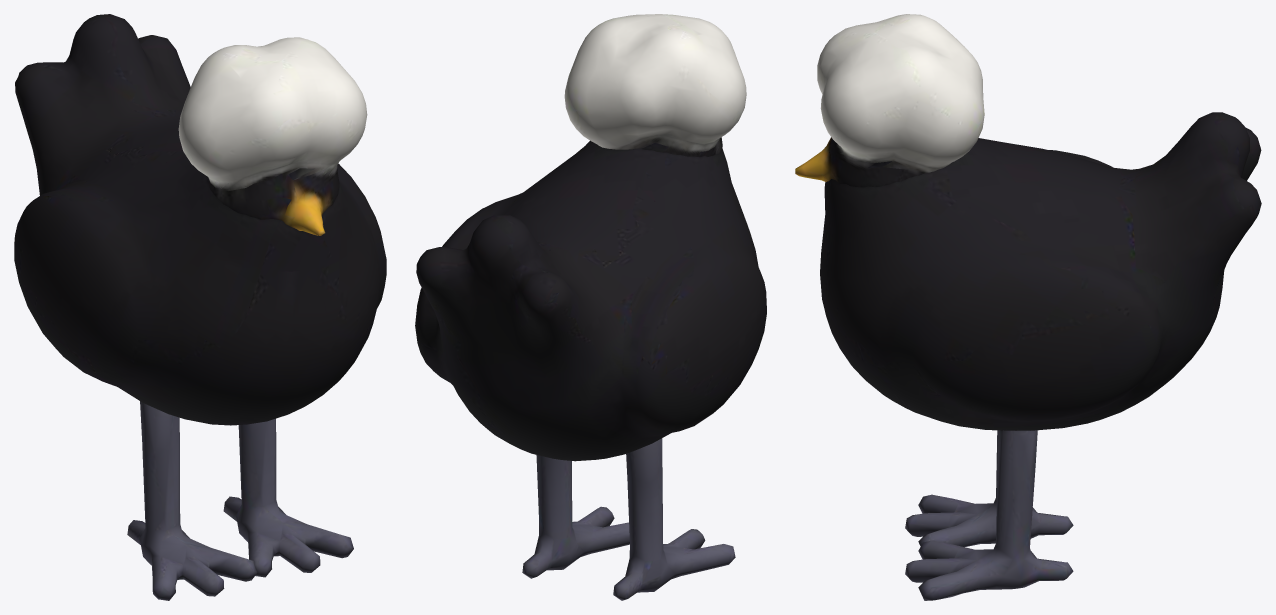
File: animal_polish_chicken.glb
3 renders of one model, left to right at view 1: azimuth 30°, elevation 25°; view 2: azimuth 150°, elevation 25°; view 3: azimuth 270°, elevation 25°, orthographic. The views are drawn at different scales.
Parts seen in each view (by area): view 1: animal_polish_chicken, head, leg0, leg1; view 2: animal_polish_chicken, head, leg0, leg1; view 3: animal_polish_chicken, head, leg1, leg0.
Part boxes in pixels (bbox=[...]): animal_polish_chicken: bbox=[14, 14, 386, 425]; head: bbox=[178, 37, 367, 235]; leg0: bbox=[127, 401, 257, 600]; leg1: bbox=[223, 418, 353, 577]; animal_polish_chicken: bbox=[415, 140, 766, 461]; head: bbox=[564, 14, 746, 157]; leg0: bbox=[613, 438, 735, 600]; leg1: bbox=[522, 455, 629, 578]; animal_polish_chicken: bbox=[820, 112, 1261, 430]; head: bbox=[795, 14, 984, 187]; leg1: bbox=[905, 430, 1073, 600]; leg0: bbox=[905, 430, 1073, 547].
Bounding box in the file's own units: 0.1847 × 0.3276 × 0.2577.
Materials: 1 (1 with a texture image).
